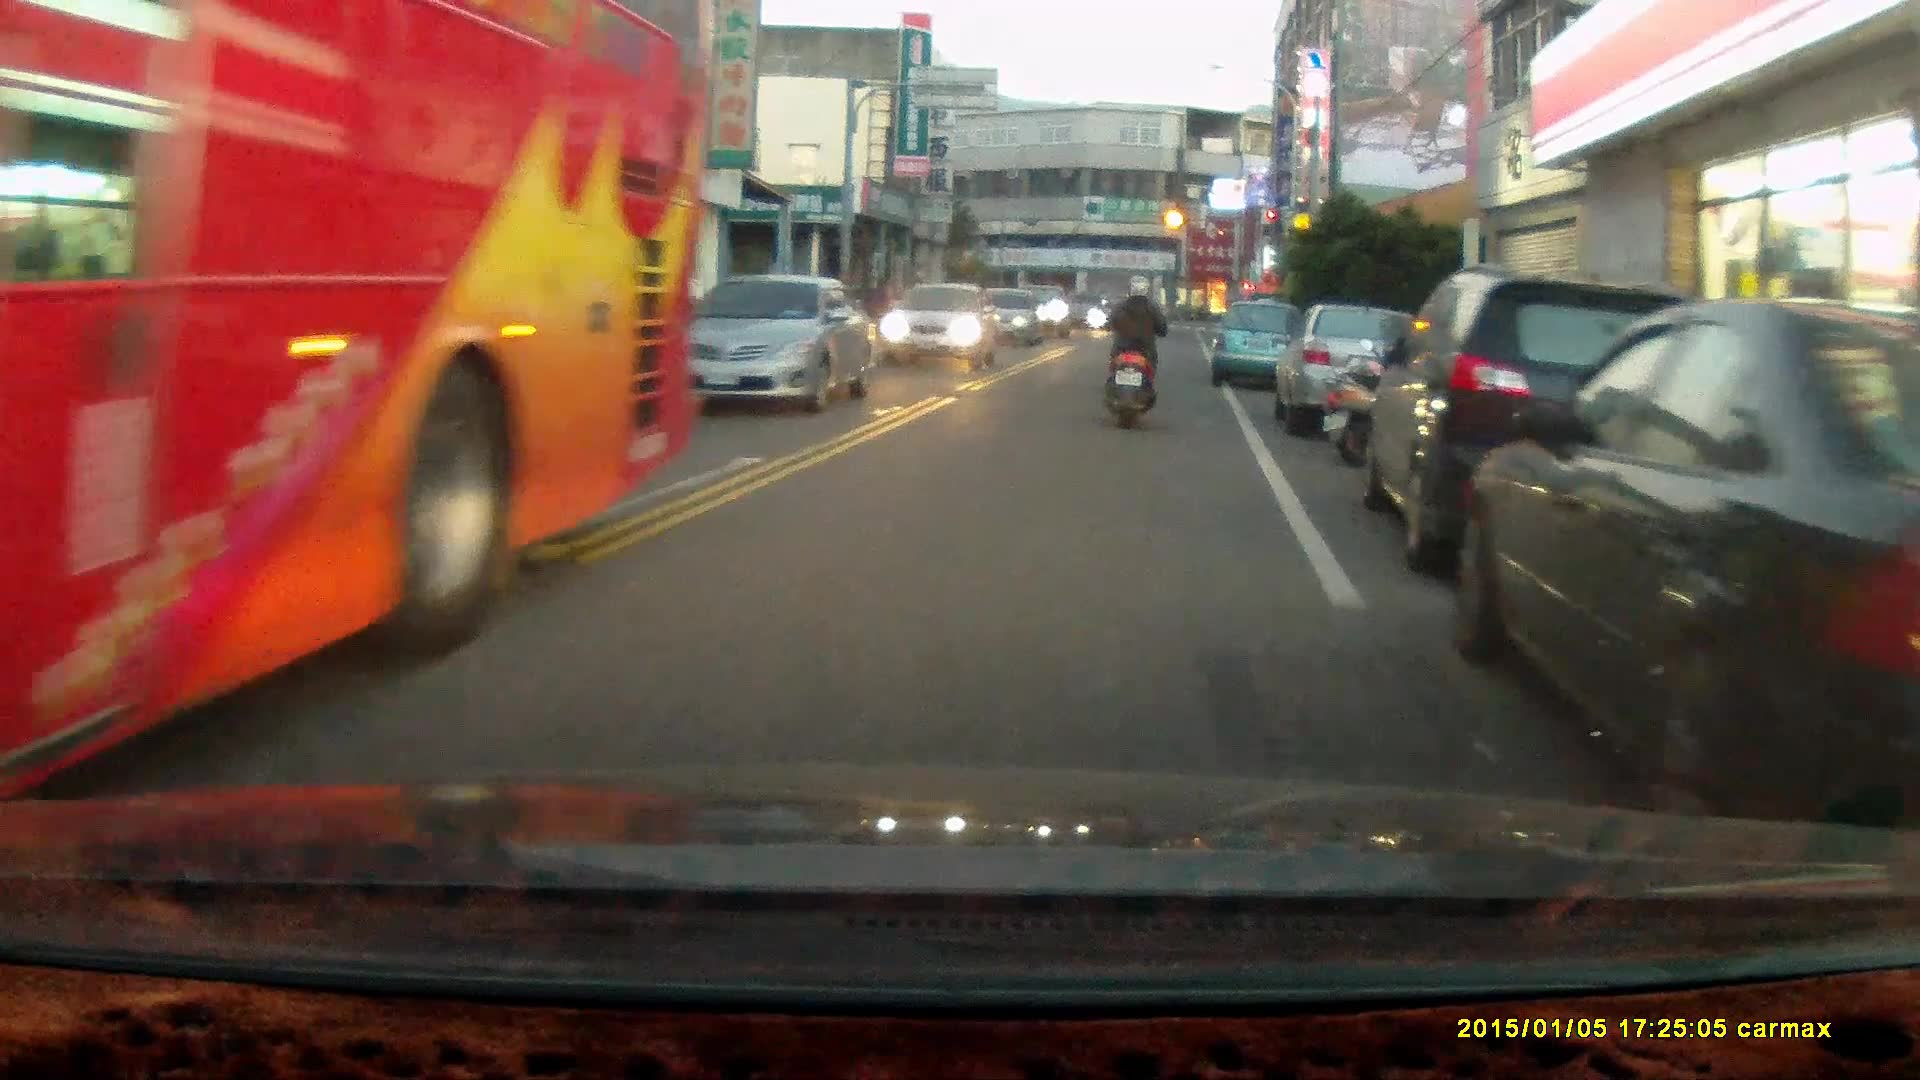rider: (1098, 271, 1168, 429)
vehicle: (1, 9, 703, 792), (1453, 296, 1920, 850), (1356, 263, 1797, 579), (654, 275, 876, 407), (1278, 304, 1451, 440), (881, 282, 1001, 372), (1206, 301, 1305, 393)
